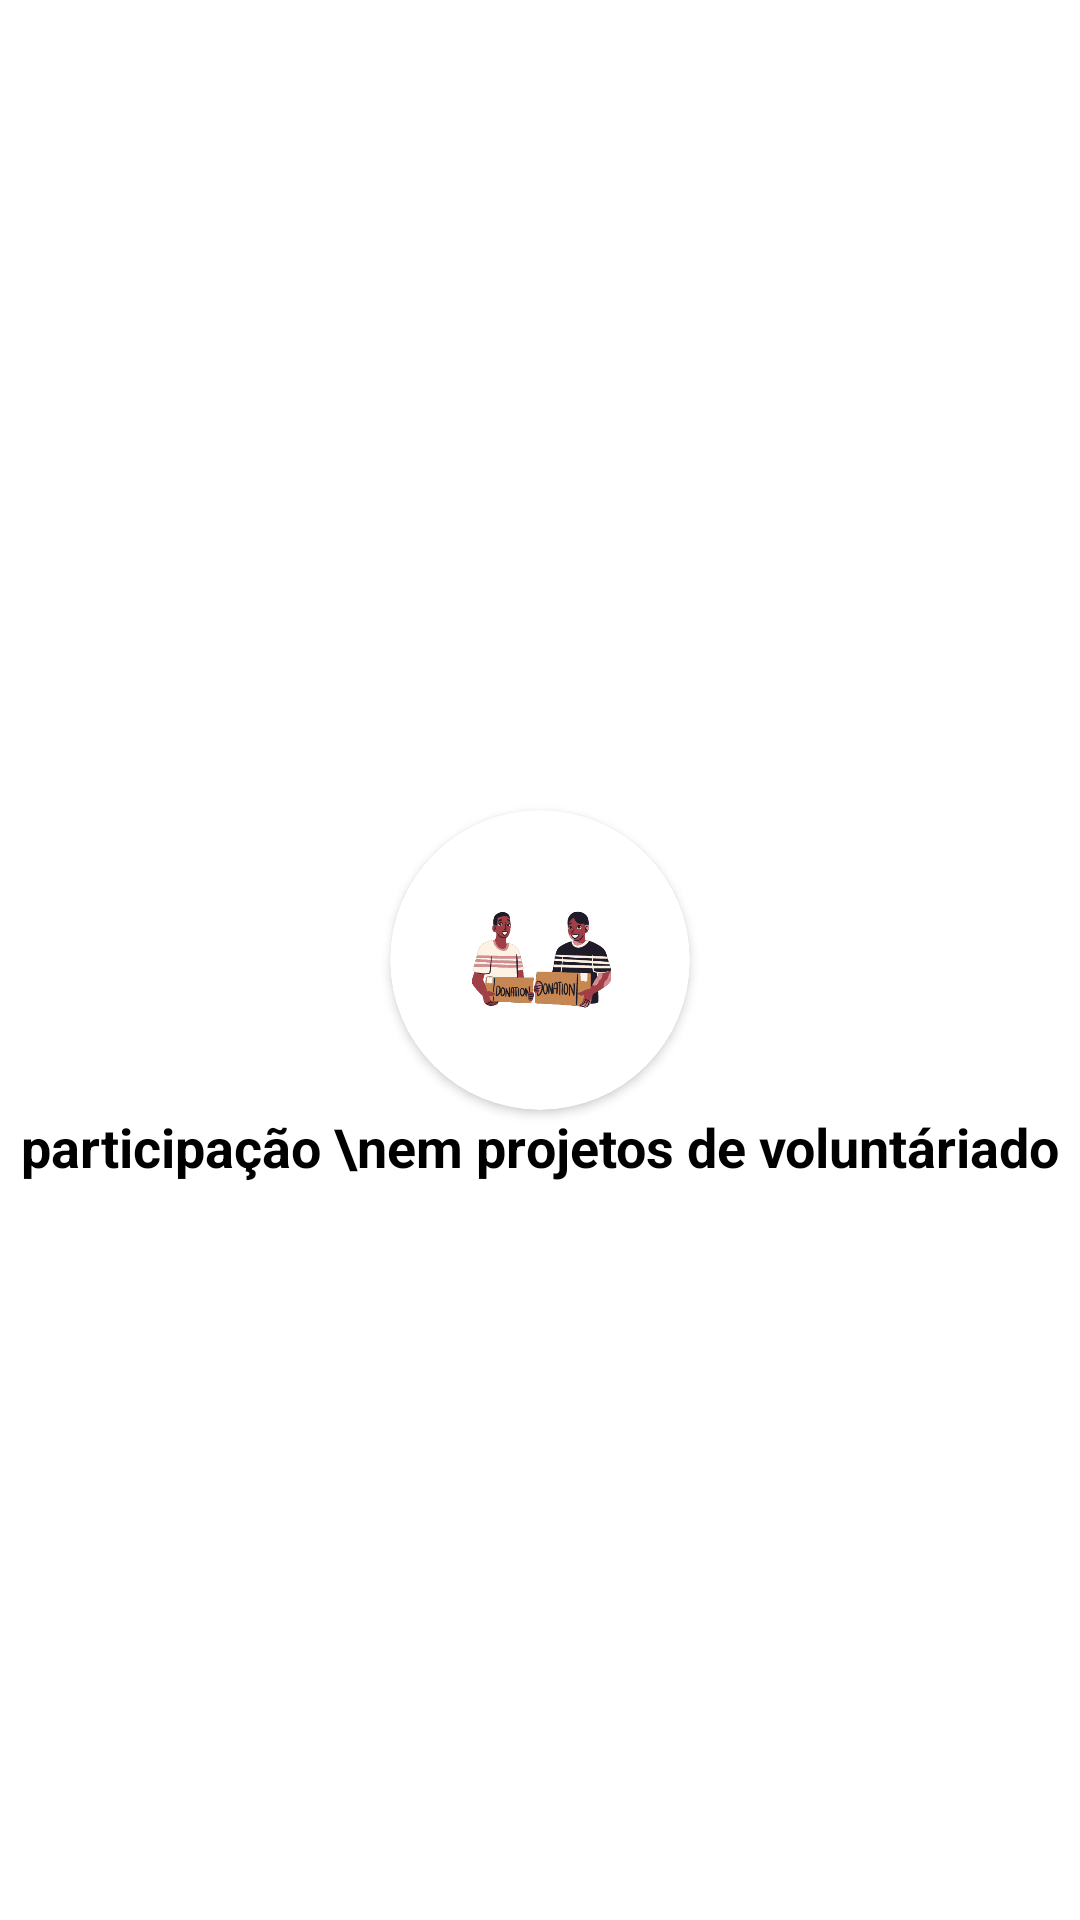

Locate icon controls on the screen. Image size 1080 x 1920, boxes as (x1,y1,x2,y2).
voluntariado: (472,911,611,1008)
